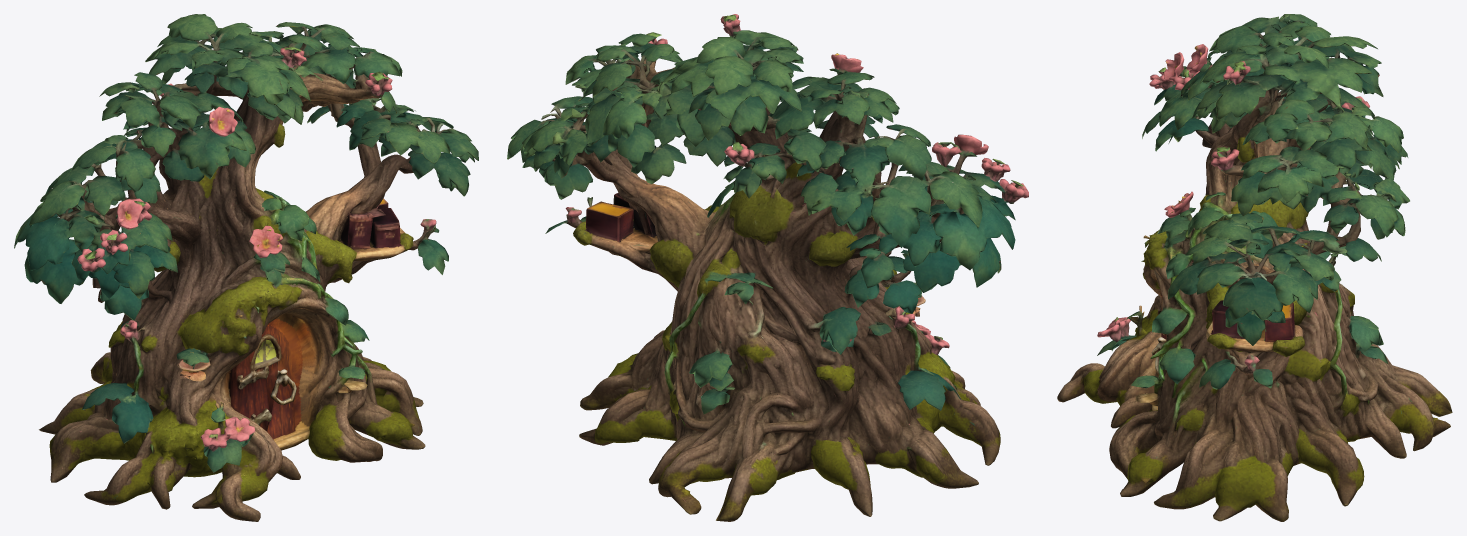
File: reading-tree.glb
3 renders of one model, left to right at view 1: azimuth 30°, elevation 25°; view 2: azimuth 150°, elevation 25°; view 3: azimuth 270°, elevation 25°, orthographic. The views are drawn at different scales.
Size of the model in its own units: 0.9952 by 0.8281 by 0.7314.
1 material, 1 textured.
